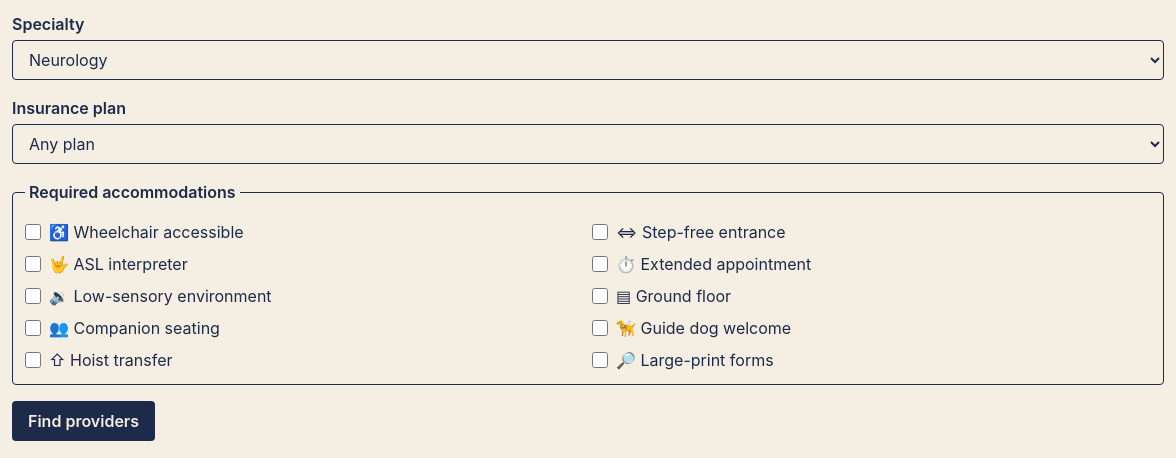
Test: SearchForm — one copy of the search, not two › keeps its own summary after its own submit
Select "Physiotherapy" in the dropdown labelled "Specialty" at coordinates (588, 60), box x1=12 y1=40 x2=1164 y2=80
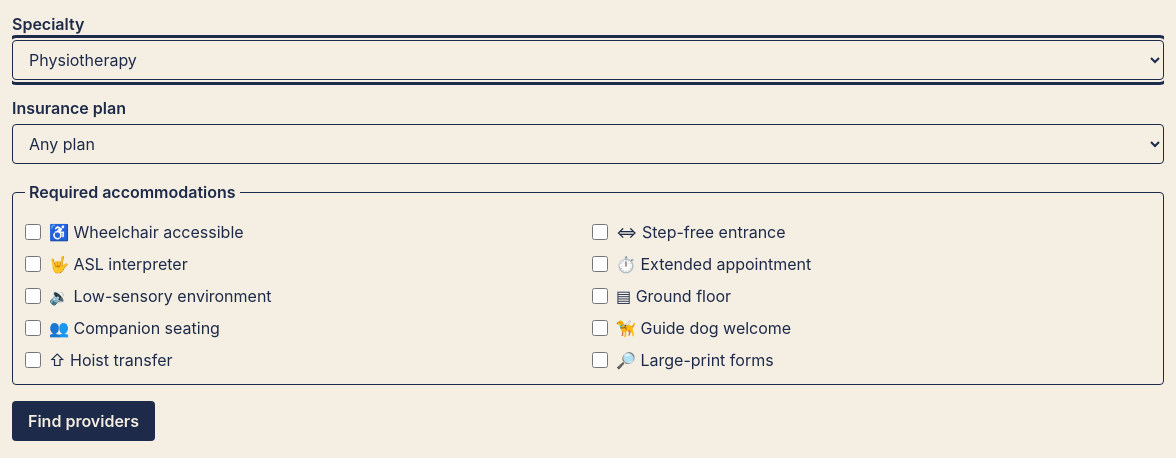
Click the button "Find providers".
click(84, 421)  # box x1=12 y1=401 x2=155 y2=441
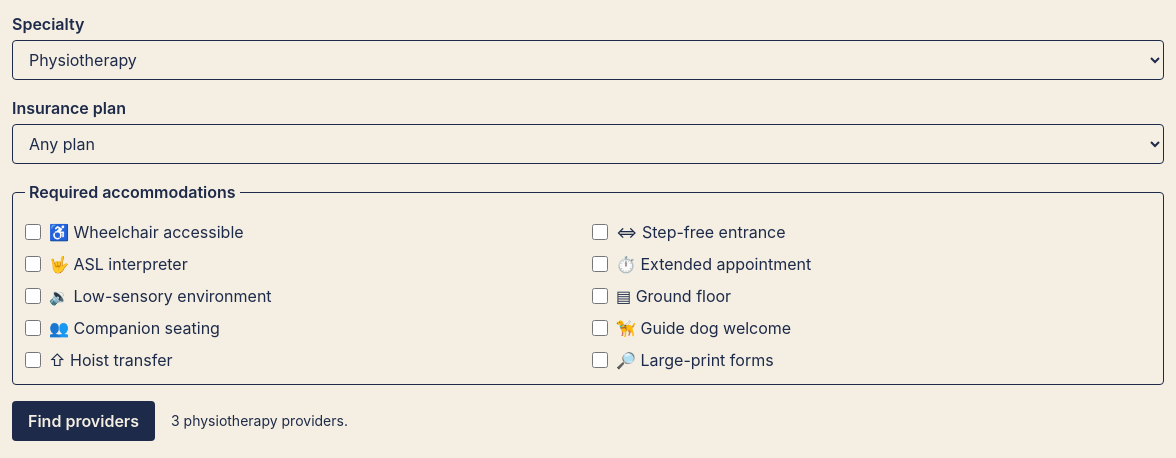
Check: the message shows "physiotherapy provider", box x1=171 y1=412 x2=348 y2=429
